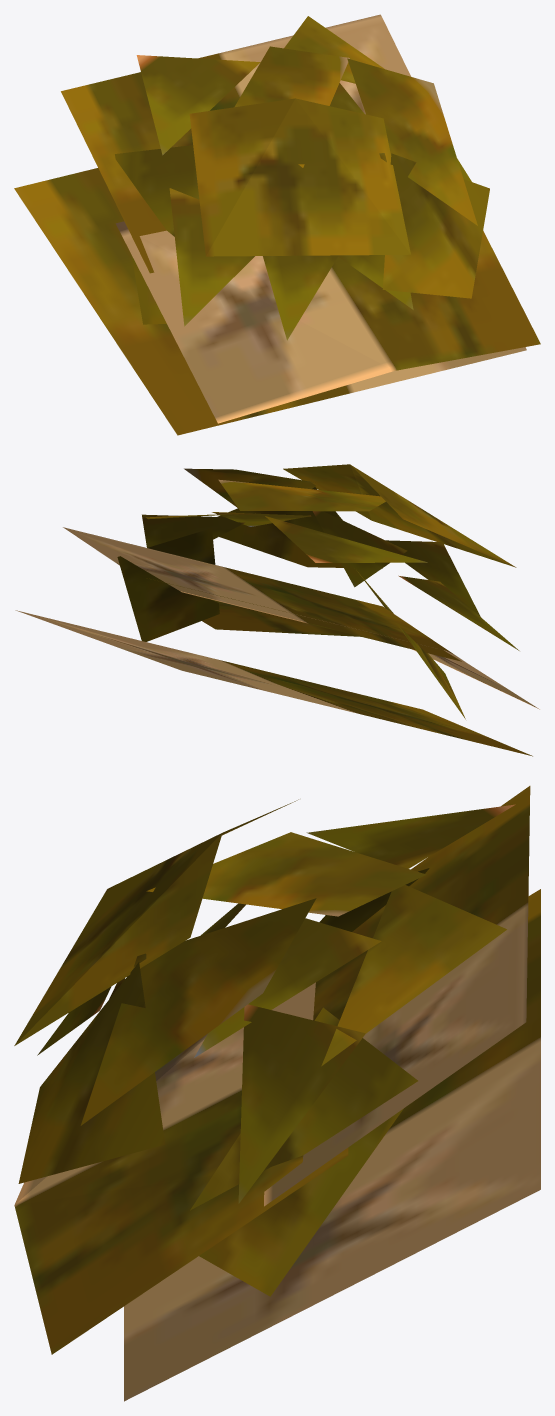
File: fg_bushC_2_pi.dae
3 renders of one model, top to bottom at view 1: azimuth 30°, elevation 25°; view 2: azimuth 150°, elevation 25°; view 3: azimuth 270°, elevation 25°, orthographic. The views are drawn at different scales.
Parts seen in each view (by area): view 1: fg_bushC_2_pi; view 2: fg_bushC_2_pi; view 3: fg_bushC_2_pi.
Boxes of the visible parts, bbox=[...] form: fg_bushC_2_pi: bbox=[14, 14, 540, 435]; fg_bushC_2_pi: bbox=[15, 464, 539, 756]; fg_bushC_2_pi: bbox=[14, 786, 540, 1401].
Size of the model in its own units: 47.83 by 31.21 by 35.4.
1 material, 1 textured.
